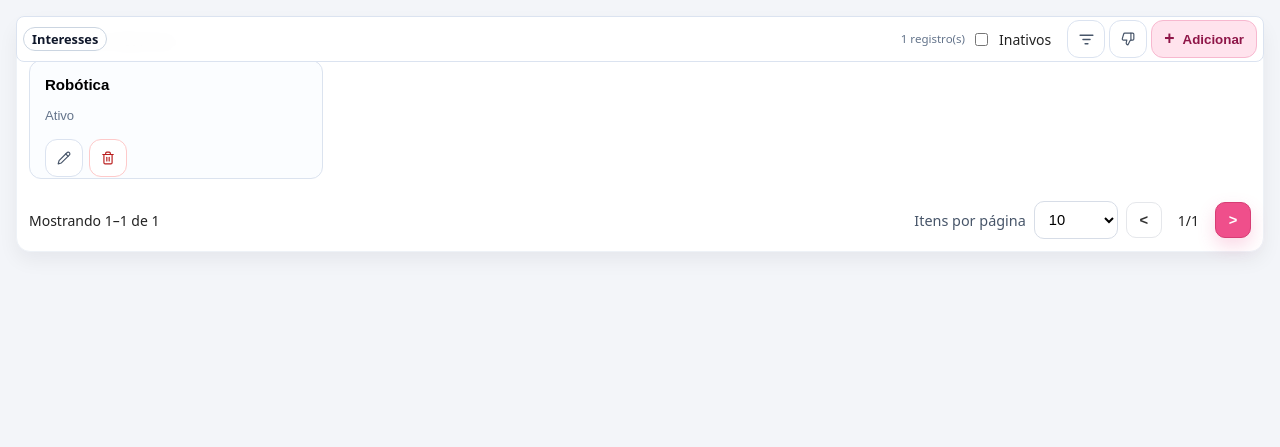
Test case: Fatia final das listagens › Interesses mantém descrição em foco, esconde header de ID explícito e abre já editável
Expected: the navigation bar named "Breadcrumb" reads "Interesses", [32,30,98,48]
Click the button with aria-label "Editar interesse Robótica" at (77, 84), box [45,76,307,123]
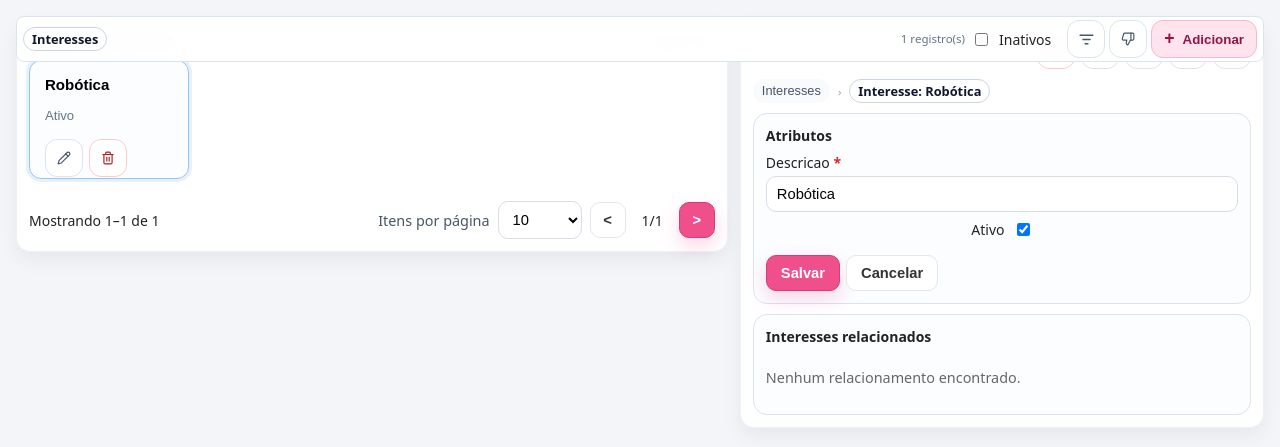
Result: the text "Interesse: Robótica" is shown at [849,79,990,103]
Result: the field showing "Robótica" is enabled at [766,176,1238,212]
